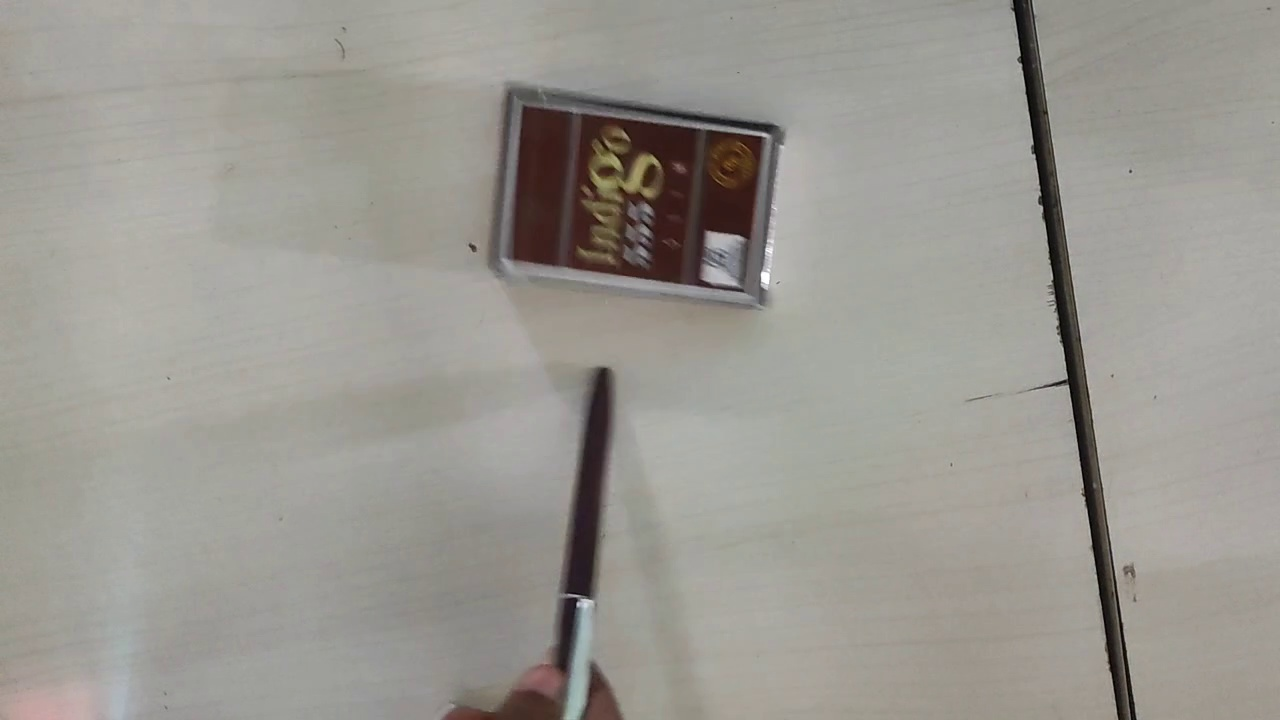BEX: (508, 101, 773, 296)
